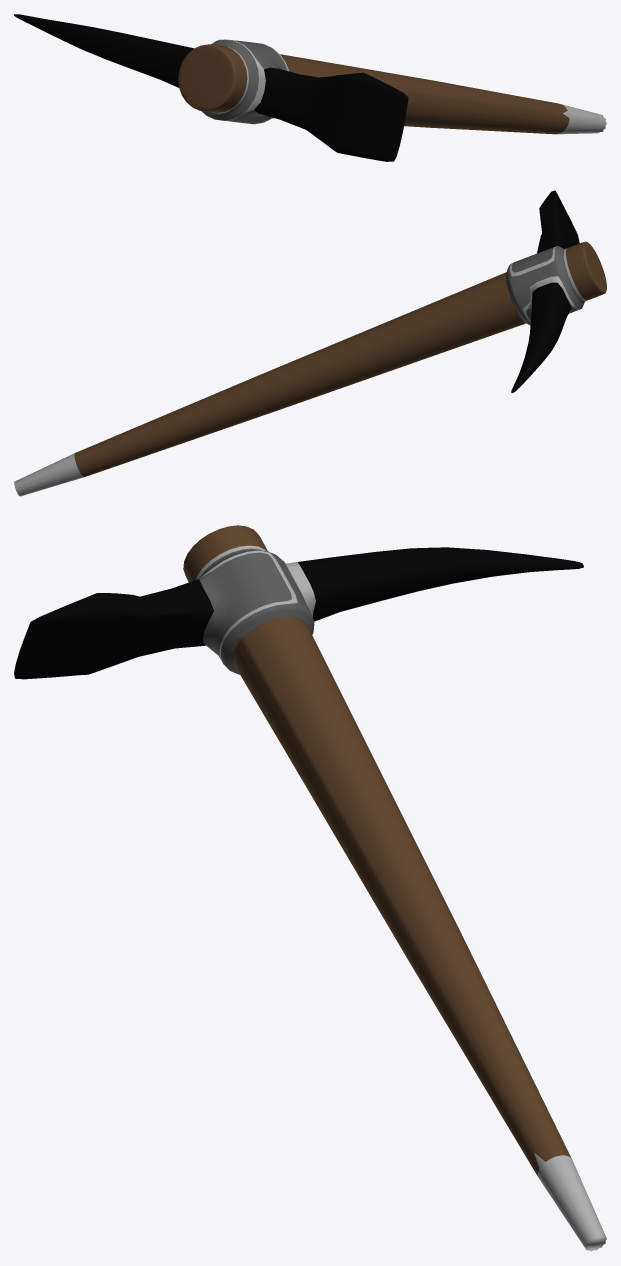
File: PickAxe.fbx
3 views of the same model, one above another, from view 1: azimuth 30°, elevation 25°; view 2: azimuth 150°, elevation 25°; view 3: azimuth 270°, elevation 25° (orthographic). The views are drawn at different scales.
Visible parts, largest first — view 1: pCylinder7; view 2: pCylinder7; view 3: pCylinder7.
Part boxes in pixels (x1=…): pCylinder7: x1=14, y1=14, x2=606, y2=161; pCylinder7: x1=14, y1=190, x2=606, y2=496; pCylinder7: x1=14, y1=525, x2=606, y2=1251.
Size of the model in its own units: 4.8 by 2.49 by 3.32.
